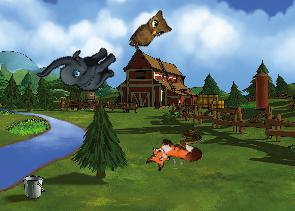elephant: (35, 25, 124, 113)
fox: (144, 133, 203, 181)
owl: (126, 6, 177, 60)
